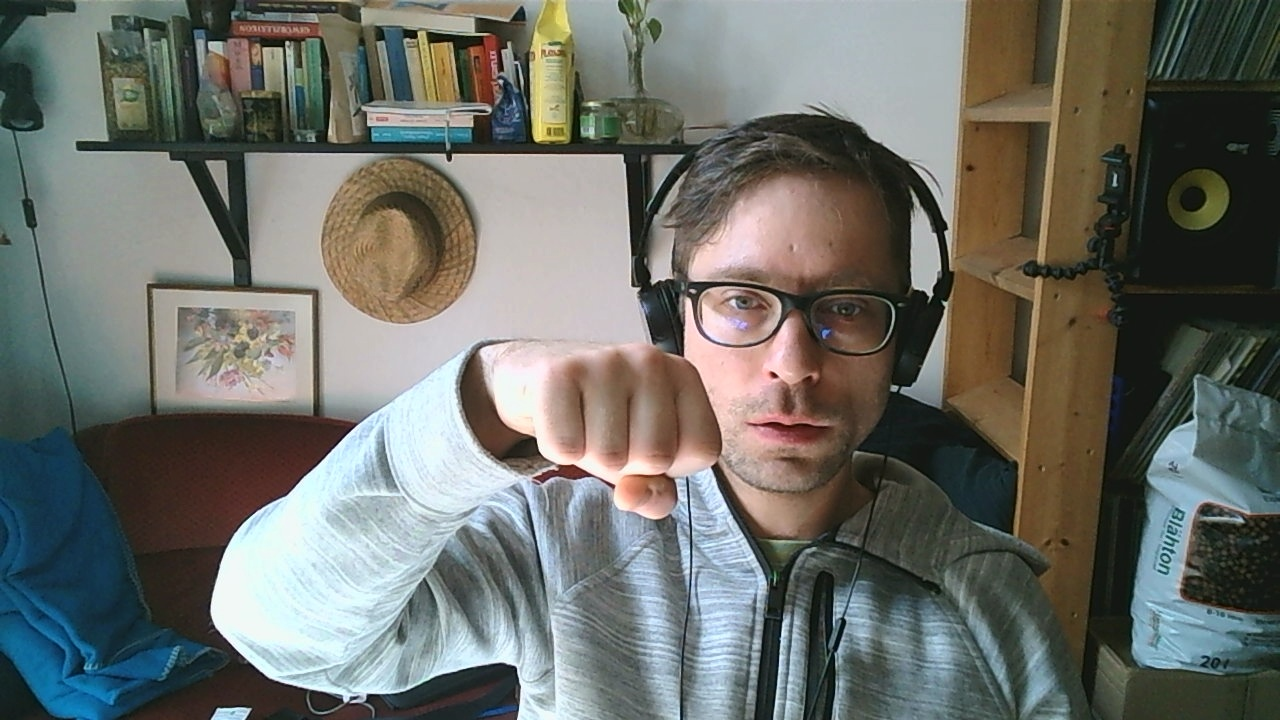yes: (493, 339, 721, 516)
